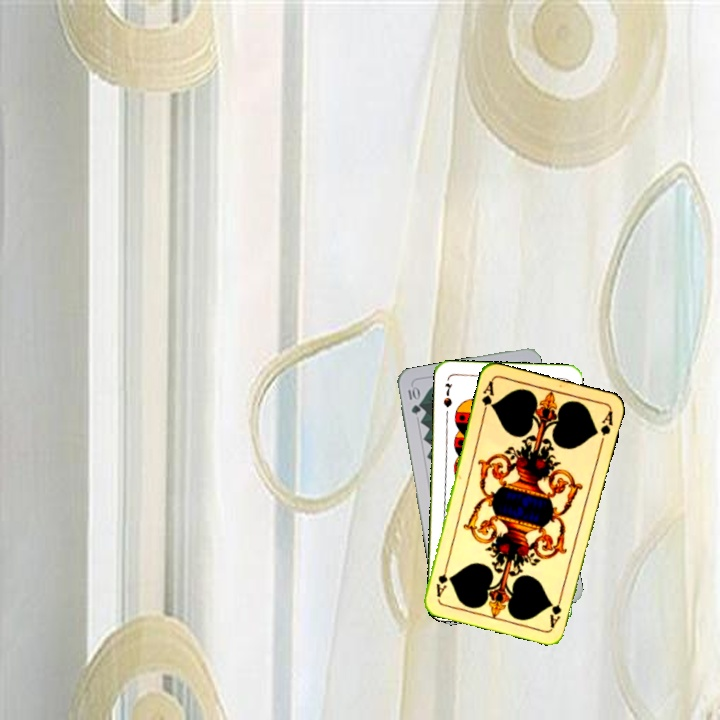G10: (404, 383, 423, 417)
GA: (477, 377, 497, 417), (546, 590, 565, 630)
S7: (439, 379, 455, 409)
